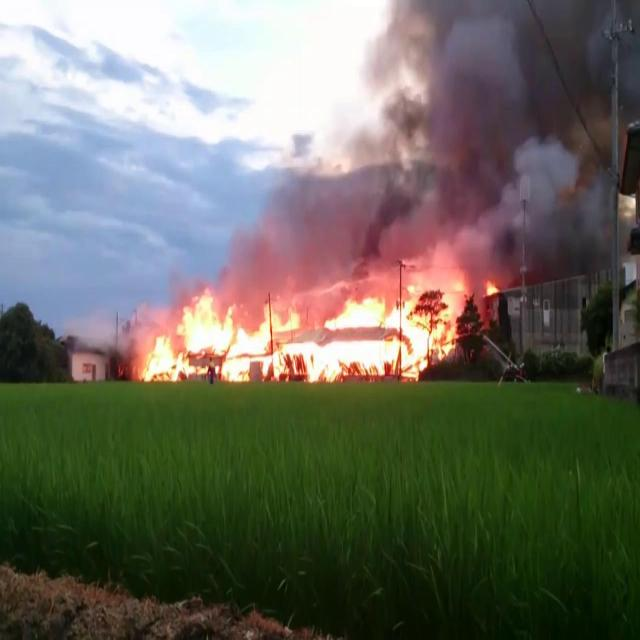Fire: (143, 280, 464, 380), (486, 279, 498, 295)
